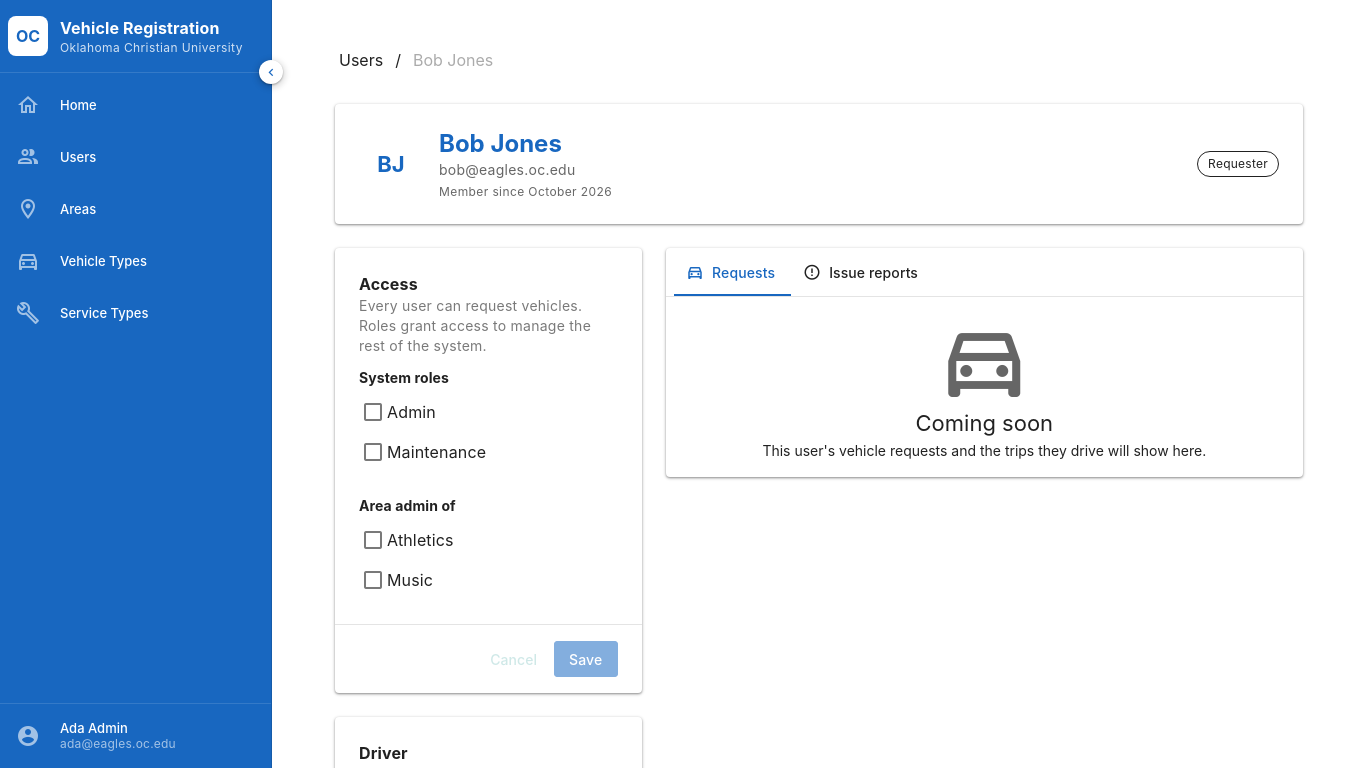
Test: Feature 3 — User Role Management UI › US-3.4 — User details › Admin adds a role
Expected: the element showing "Maintenance" is shown, [361,440,486,464]
Click the checkbox labelled "Maintenance": coordinates (437, 452) [387,442,486,462]
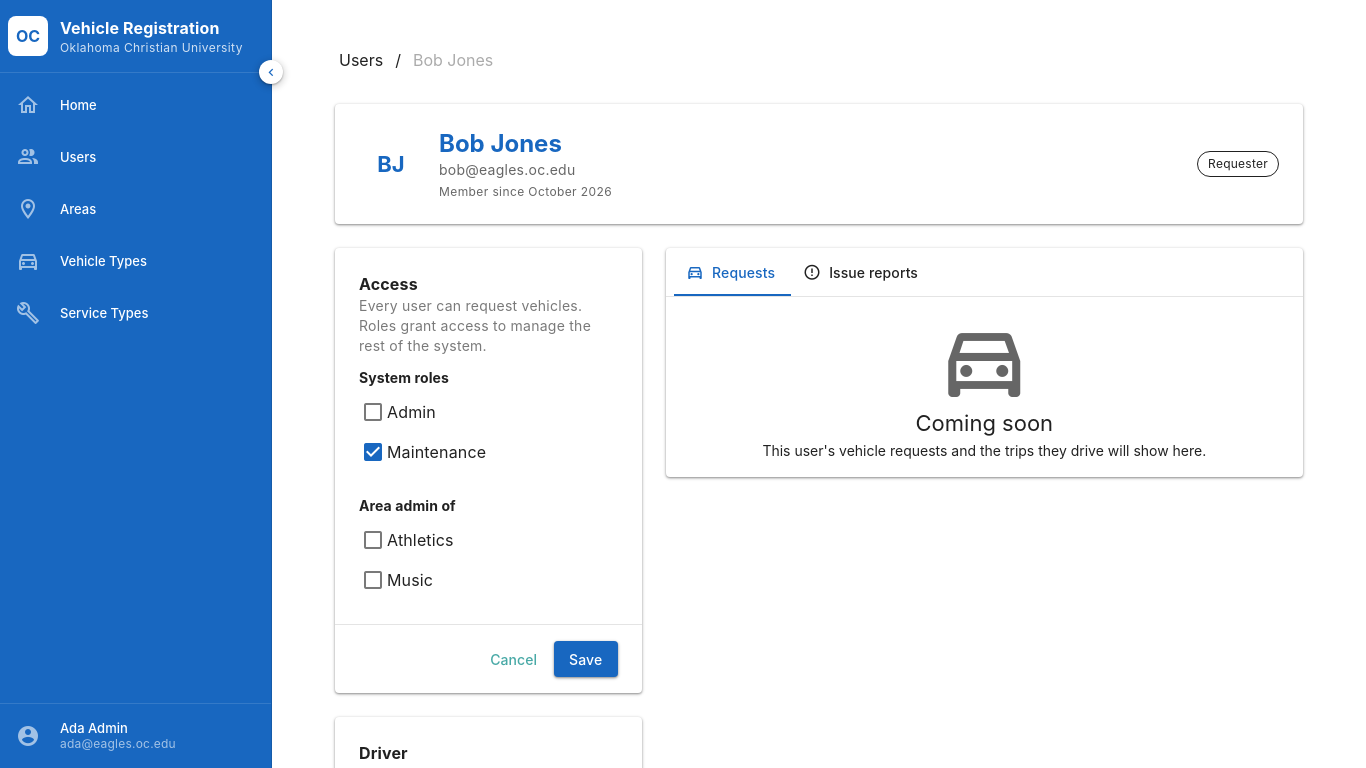
Click the button "Save": coordinates (586, 659) [554,641,618,677]
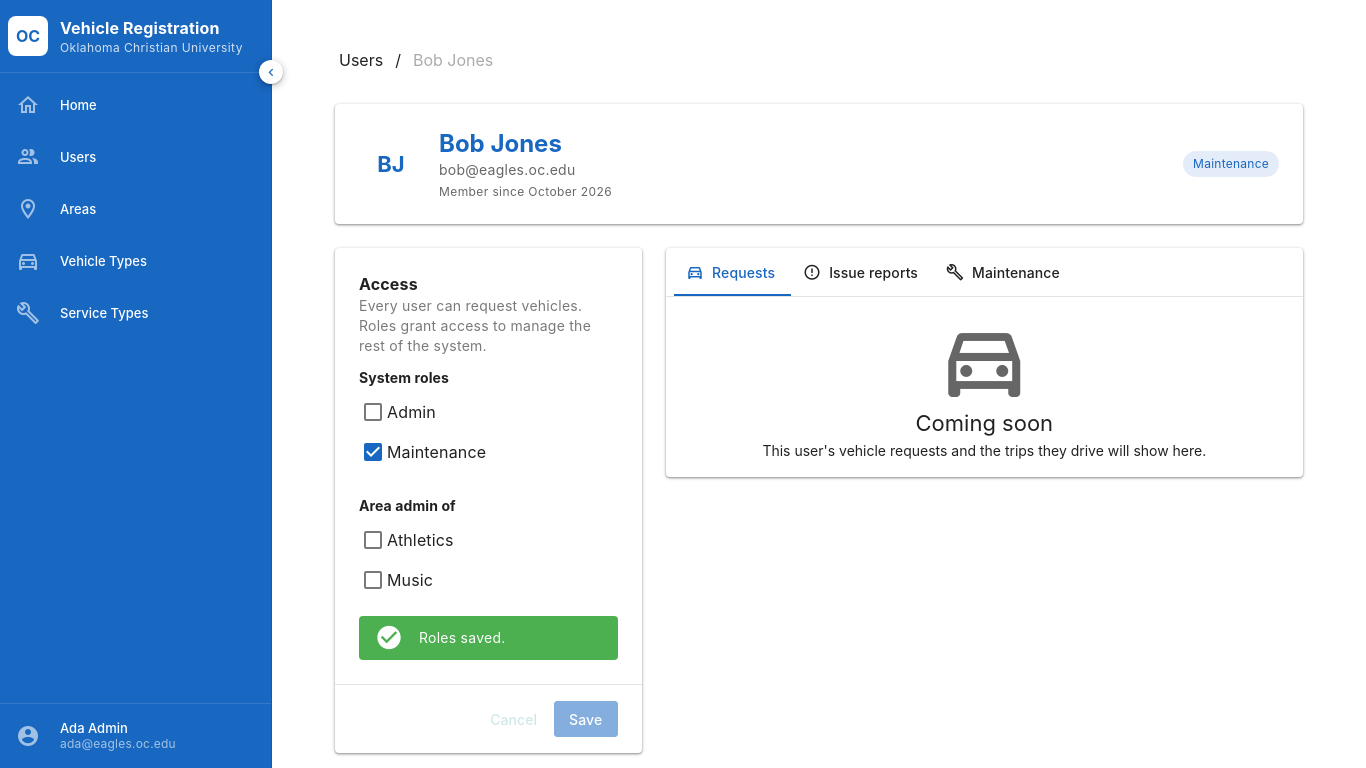
Expected: the text "Roles saved." is shown, [419,629,506,646]
Expected: the button "Save" is disabled, [554,701,618,737]
